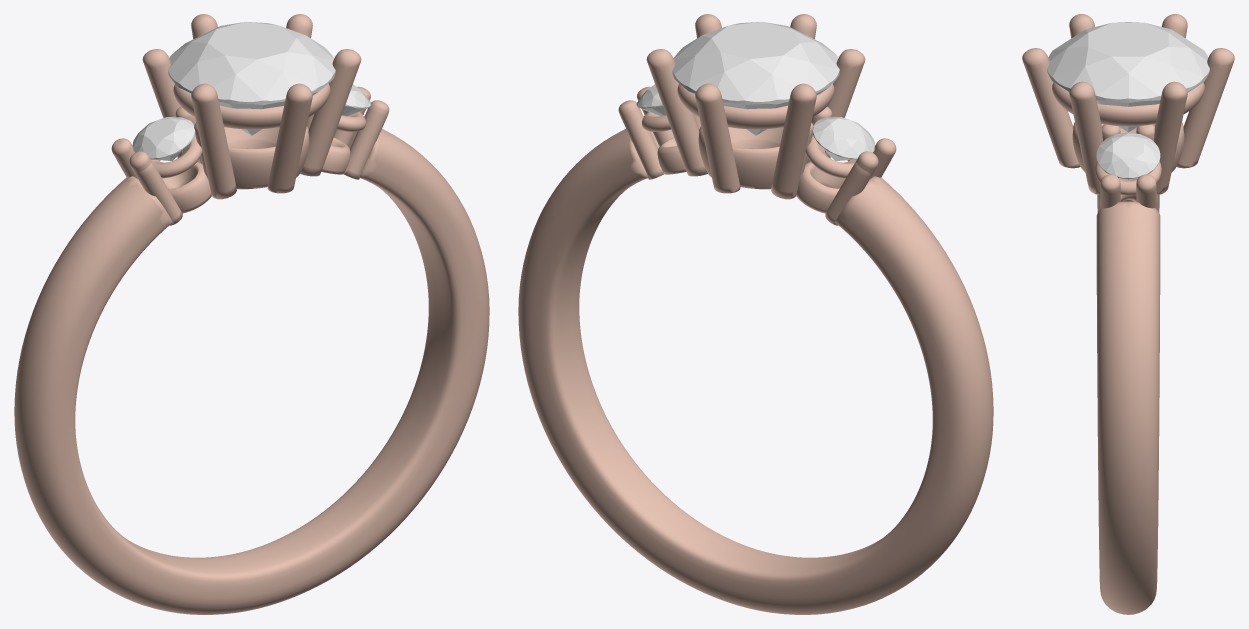
Rendered from diamond-round-rosegold-6prong-straightband-2stone.glb.
3 renders of one model, left to right at view 1: azimuth 30°, elevation 25°; view 2: azimuth 150°, elevation 25°; view 3: azimuth 270°, elevation 25°, orthographic. The views are drawn at different scales.
Visible parts, largest first — view 1: metal, stone, side.001; view 2: metal, stone, side.001; view 3: metal, stone, side.
Boxes of the visible parts, x1,y1,x2,y2 form: metal: (14,14,489,614); stone: (168,21,335,135); side.001: (132,117,195,160); metal: (518,14,993,614); stone: (672,21,839,135); side.001: (812,117,875,160); metal: (1022,14,1234,614); stone: (1047,22,1209,132); side: (1096,132,1160,179).
Size of the model in its own units: 20.5 by 23.81 by 8.33.
